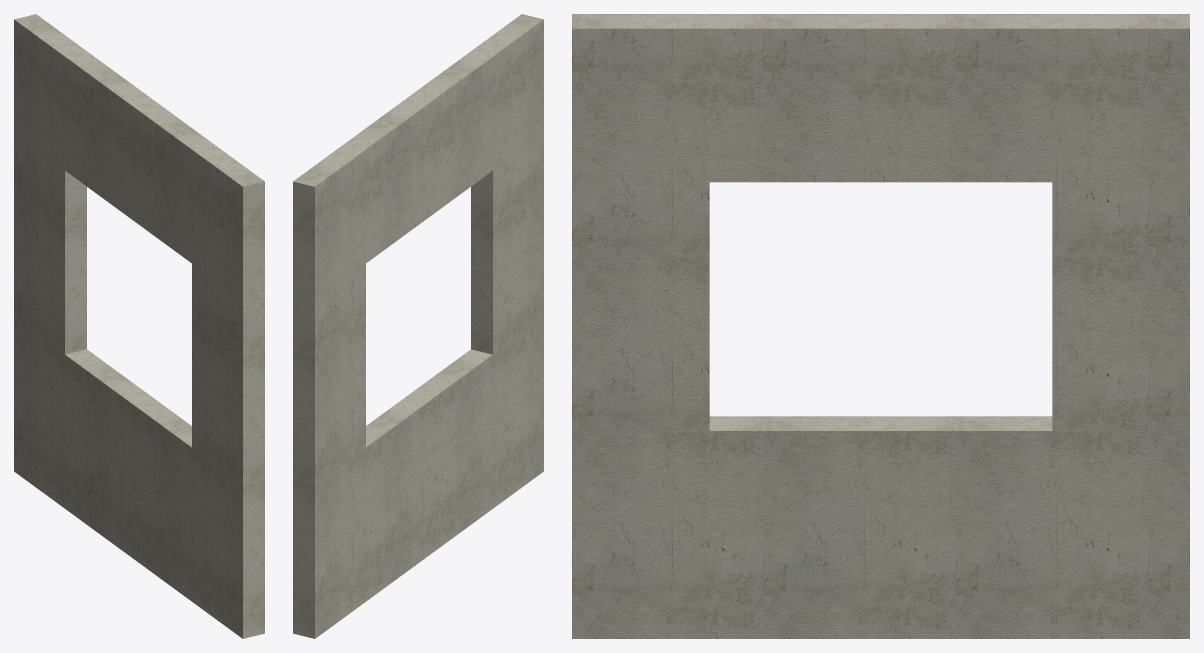
The model's file is soupwindwall030.glb.
The picture shows the model from 3 angles, left to right: view 1: azimuth 30°, elevation 25°; view 2: azimuth 150°, elevation 25°; view 3: azimuth 270°, elevation 25°; orthographic projection. The views are drawn at different scales.
Parts seen in each view (by area): view 1: soupwindwall030_high_1; view 2: soupwindwall030_high_1; view 3: soupwindwall030_high_1.
Part boxes in pixels (x1,y1,x2,y2): soupwindwall030_high_1: (14,14,264,638); soupwindwall030_high_1: (293,14,543,638); soupwindwall030_high_1: (572,14,1189,638).
Bounding box in the file's own units: 0.1504 × 2.95 × 2.7.
Materials: 1 (1 with a texture image).
